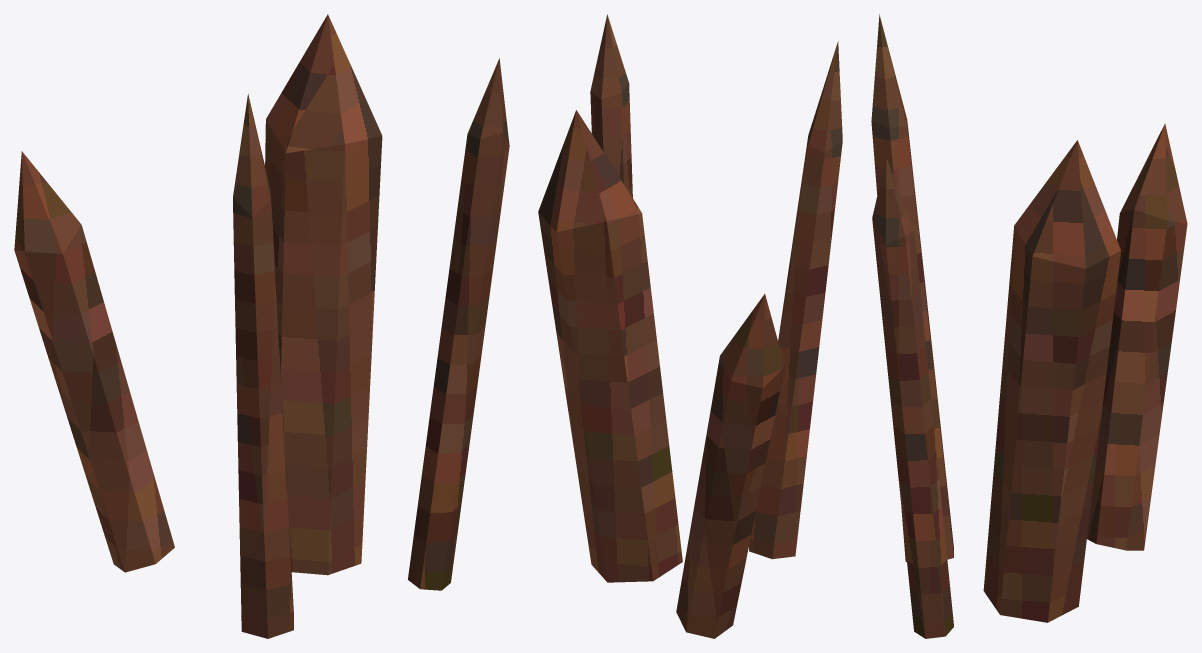
File: woodenspikes.obj
3 views of the same model, side by side, from view 1: azimuth 30°, elevation 25°; view 2: azimuth 150°, elevation 25°; view 3: azimuth 270°, elevation 25° (orthographic). The views are drawn at different scales.
Visible parts, largest first — view 1: Geoset_000_Geoset_000_None; view 2: Geoset_000_Geoset_000_None; view 3: Geoset_000_Geoset_000_None.
Boxes of the visible parts, <box> form: Geoset_000_Geoset_000_None: <box>14,14,509,638</box>; Geoset_000_Geoset_000_None: <box>538,14,842,638</box>; Geoset_000_Geoset_000_None: <box>871,14,1187,638</box>.
Size of the model in its own units: 1.51 by 2.38 by 1.29.
